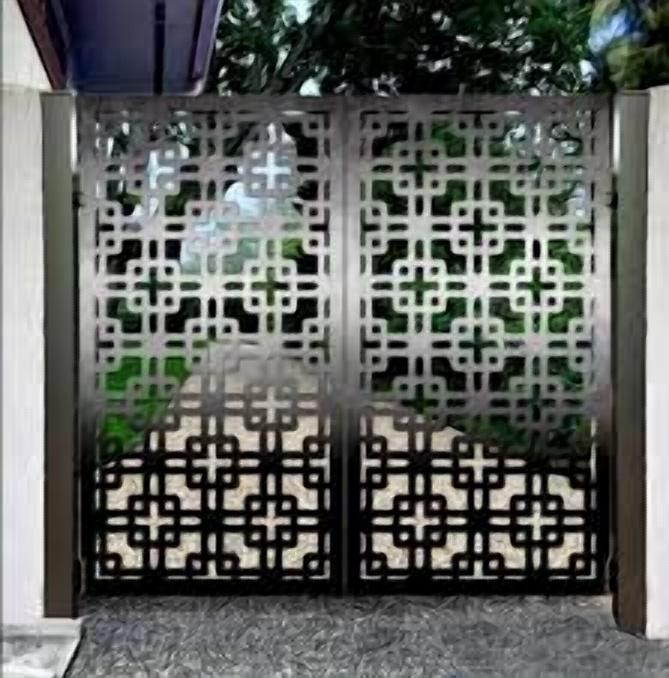Gate: (42, 87, 653, 625)
